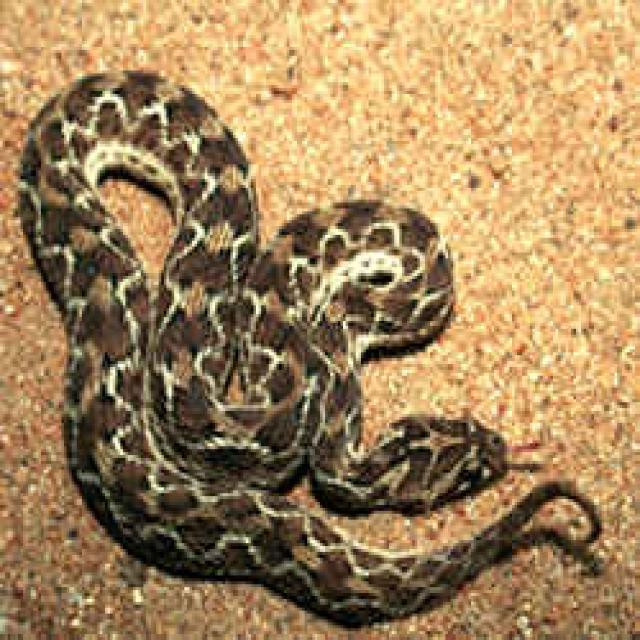Snake: (12, 64, 602, 628)
